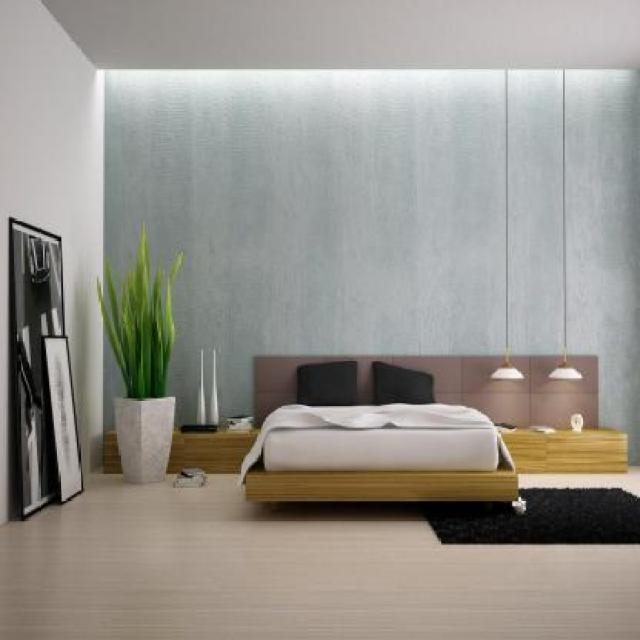Floor: (0, 466, 640, 640), (518, 466, 639, 498)
